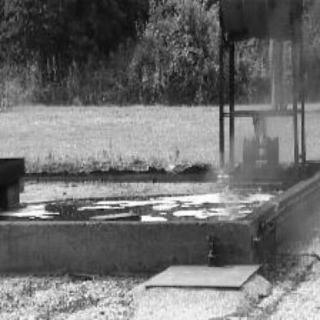Fire: (216, 168, 242, 228)
